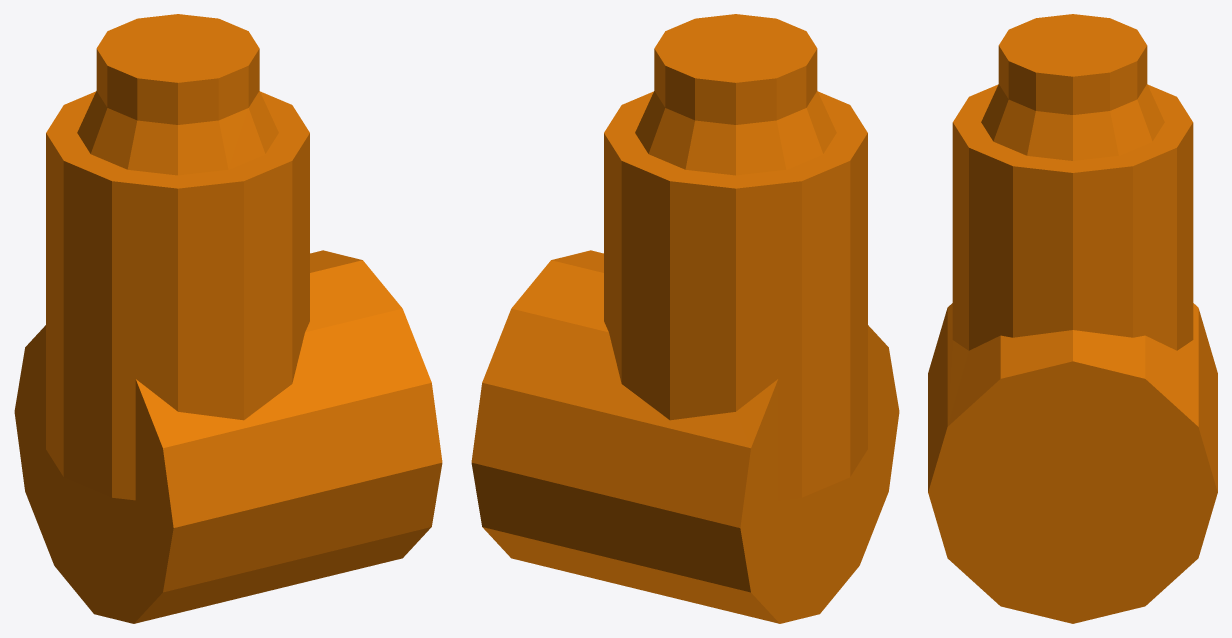
3 views of the same model, side by side, from view 1: azimuth 30°, elevation 25°; view 2: azimuth 150°, elevation 25°; view 3: azimuth 270°, elevation 25° (orthographic). The views are drawn at different scales.
Parts seen in each view (by area): view 1: default_mesh_.002; view 2: default_mesh_.002; view 3: default_mesh_.002.
Boxes of the visible parts, left/top/right/bottom form: default_mesh_.002: left=14, top=14, right=442, bottom=623; default_mesh_.002: left=471, top=14, right=899, bottom=623; default_mesh_.002: left=928, top=14, right=1217, bottom=623.
Size of the model in its own units: 0.089 by 0.155 by 0.082.
